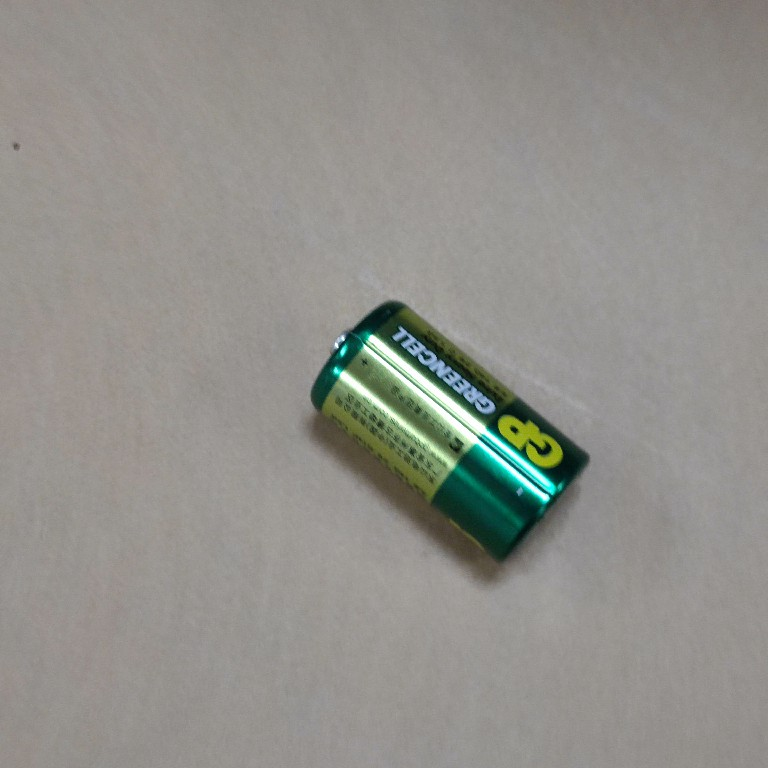charge: (306, 297, 596, 574)
